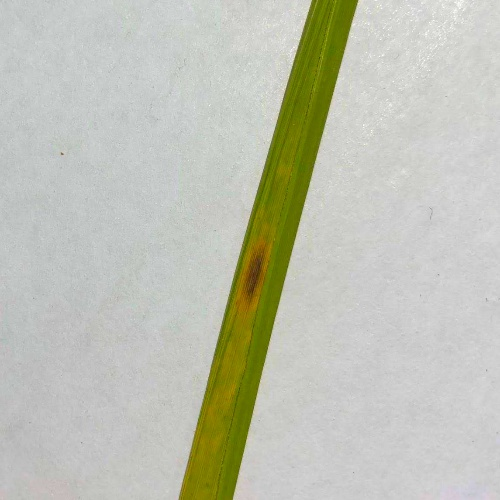Bercak Coklat: (242, 245, 273, 312)
